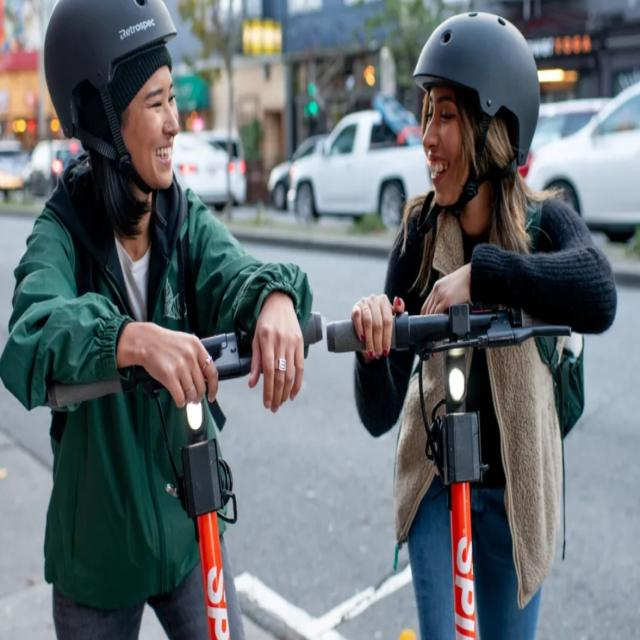helmet: (2, 2, 323, 640), (328, 4, 636, 640)
